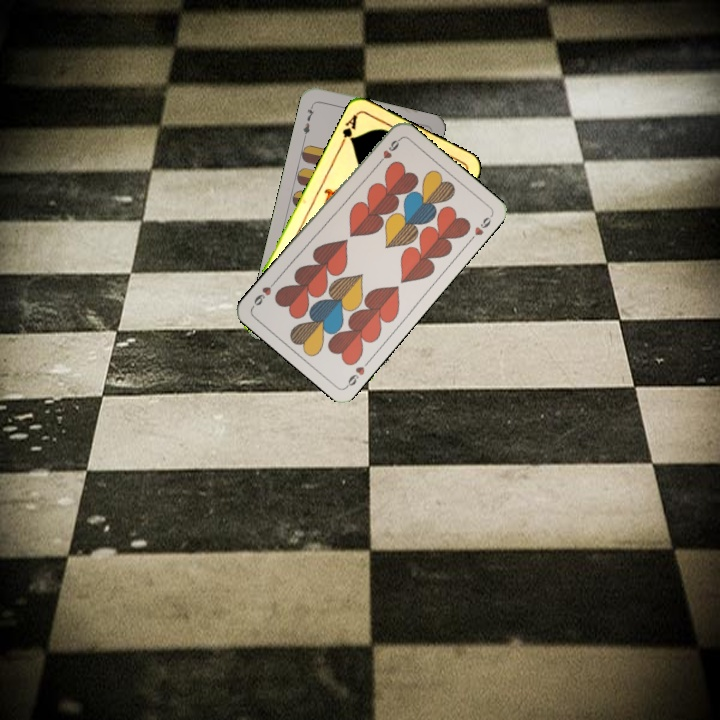E7: (299, 100, 317, 140)
GA: (336, 110, 360, 148)
H9: (342, 356, 373, 390), (373, 134, 403, 168)
